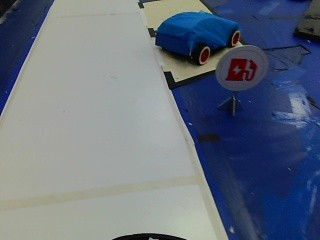battery: (221, 50, 265, 91)
car: (144, 6, 240, 67)
